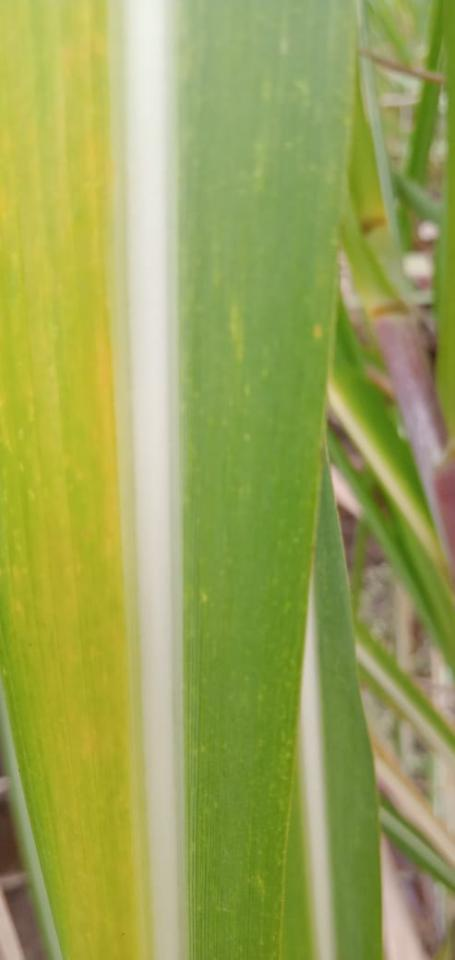Yellow: (93, 307, 122, 551)
